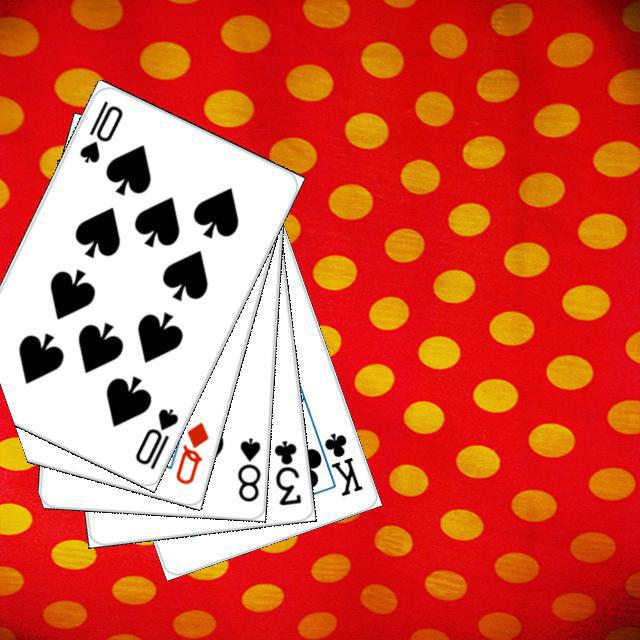10s: (74, 96, 125, 165), (130, 403, 181, 471)
3c: (269, 435, 303, 507)
8s: (232, 433, 262, 503)
Kc: (310, 426, 365, 498)
Qd: (170, 417, 210, 486)
